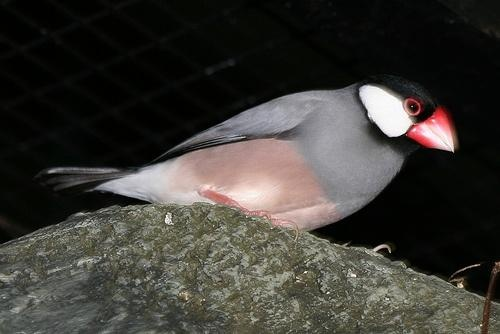bird: (42, 72, 459, 247)
